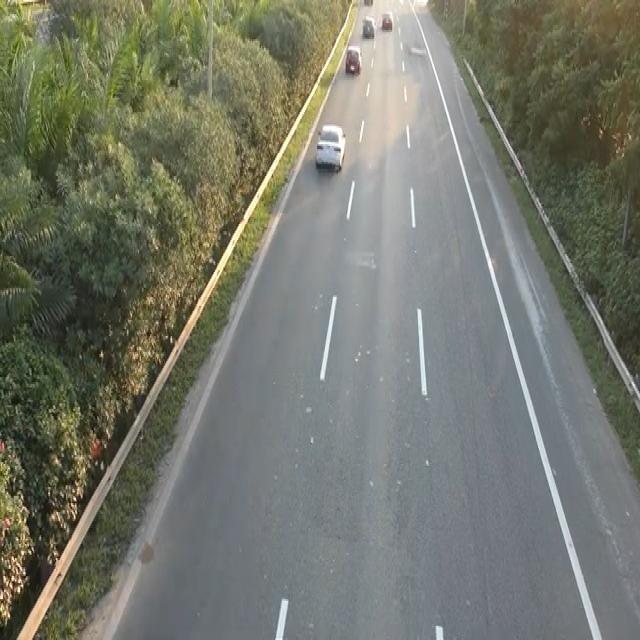bus: (313, 119, 349, 178), (344, 42, 362, 74), (361, 15, 376, 38)
